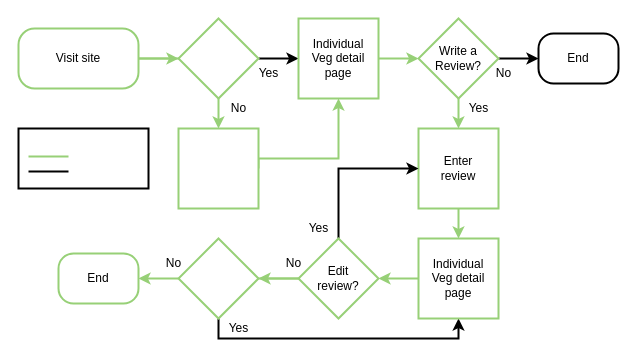
This 636x364 diagram has some shape labels left out. Here are the shapes that lost their labels. From the top down, the box of each, then its label:
(177, 17, 259, 99): Random Veg?
(17, 127, 149, 189): Key: Primary Secondary
(177, 127, 259, 209): Pick Veg from selection
(177, 237, 259, 319): Delete review?
